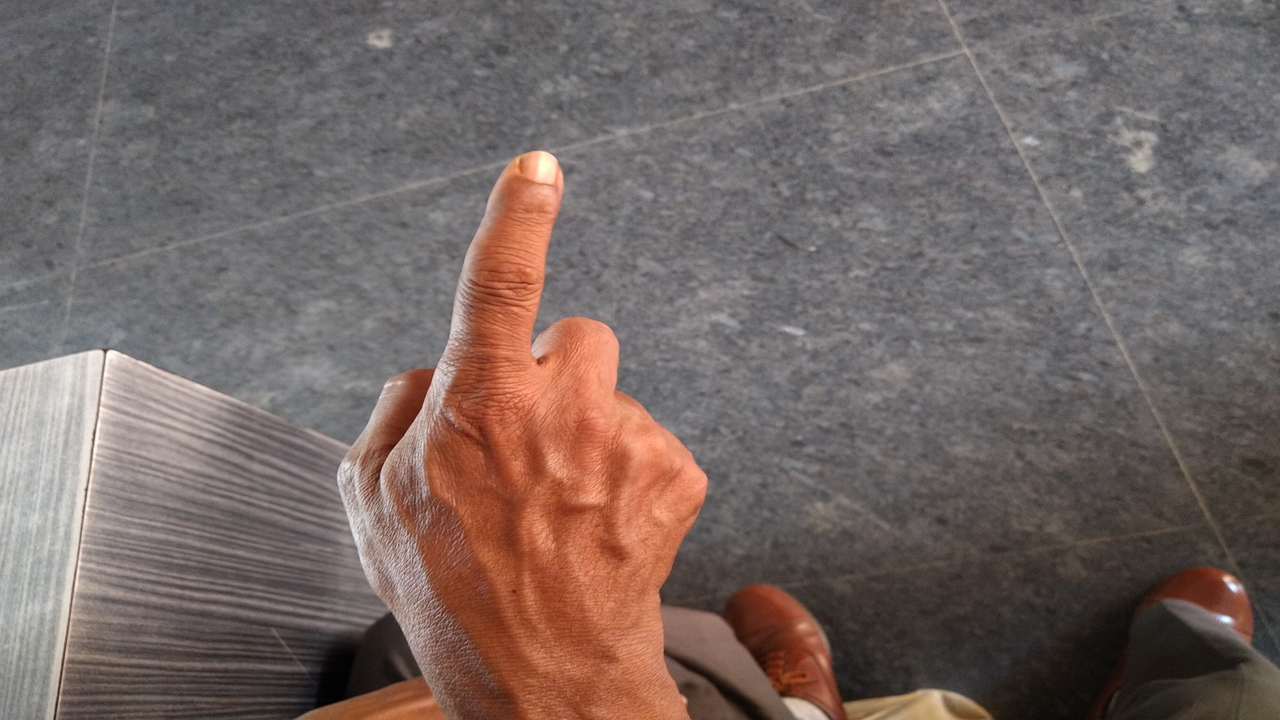fingertip: (492, 144, 570, 210)
